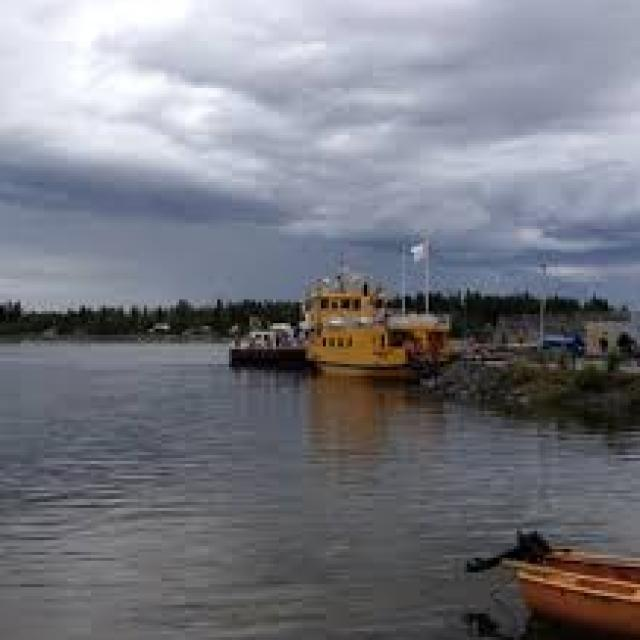fishing boat: (267, 235, 450, 380)
